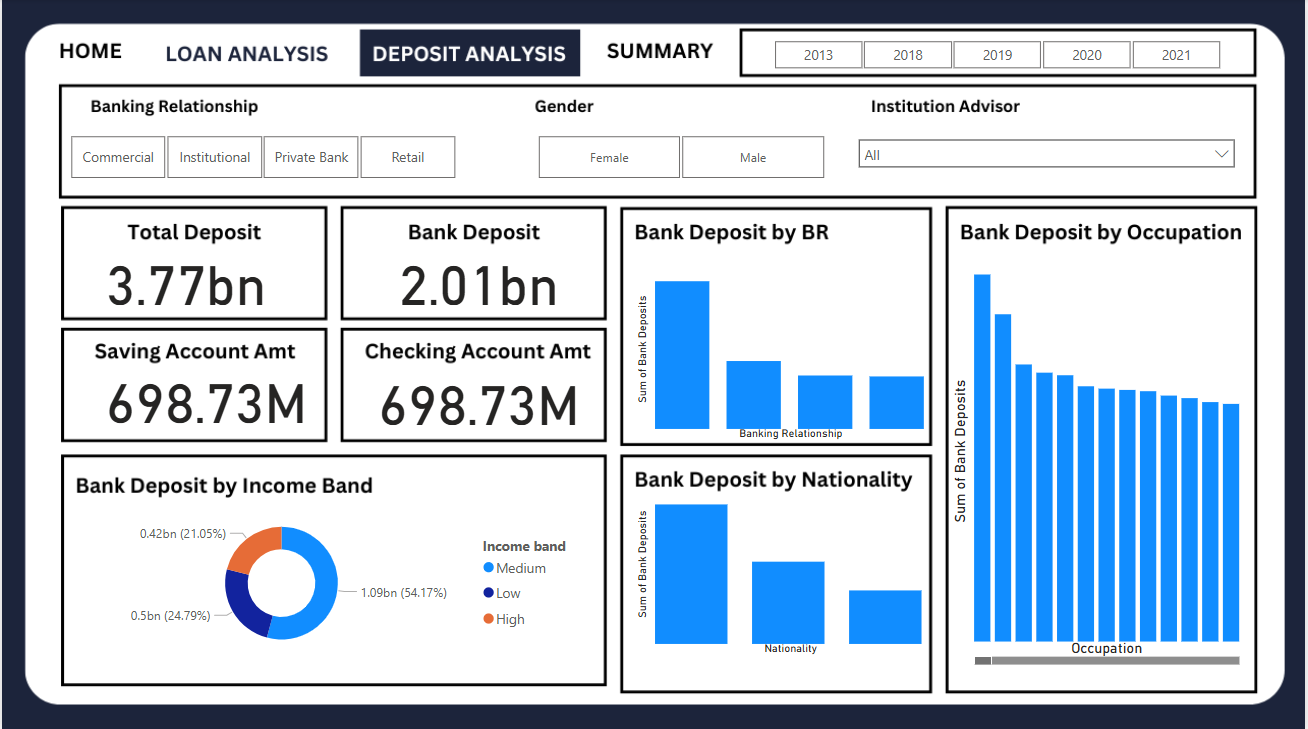

What the dashboard file says about the page in this screenshot:
{"tool":"powerbi","page":{"name":"Deposit Analysis","canvas":[1280,720],"ordinal":2},"visuals":[{"type":"actionButton","box":[41.7,33.1,99.4,40.5],"z":0},{"type":"actionButton","box":[150.9,33.1,177.9,40.5],"z":1000},{"type":"actionButton","box":[576.7,33.1,137.4,40.5],"z":2000},{"type":"slicer","fields":{"Values":["banking-realtionships.Banking Relationship"]},"box":[41.7,127.6,427,55.2],"z":3000},{"type":"slicer","fields":{"Values":["banking-clients.GenderId"]},"box":[500.6,127.6,330.1,55.2],"z":4000},{"type":"slicer","fields":{"Values":["banking-clients.IAId"]},"box":[830.7,127.6,389,55.2],"z":5000},{"type":"card","fields":{"Values":["banking-clients.Total Deposits"]},"box":[72.4,242.9,217.2,62.6],"z":6000},{"type":"card","fields":{"Values":["Sum(banking-clients.Bank Deposits)"]},"box":[359.5,242.9,217.2,62.6],"z":7000},{"type":"card","fields":{"Values":["Sum(banking-clients.Saving Accounts)"]},"box":[92,359.5,217.2,62.6],"z":8000},{"type":"card","fields":{"Values":["Sum(banking-clients.Saving Accounts)"]},"box":[359.5,360.7,217.2,62.6],"z":9000},{"type":"slicer","fields":{"Values":["banking-clients.Year Of Joining"]},"box":[732.5,34.4,487.1,38],"z":10000},{"type":"donutChart","fields":{"Category":["banking-clients.Income band"],"Y":["Sum(banking-clients.Bank Deposits)"]},"box":[72.4,498.2,504.3,150.9],"z":11000},{"type":"clusteredColumnChart","fields":{"Category":["banking-realtionships.Banking Relationship"],"Y":["Sum(banking-clients.Bank Deposits)"]},"box":[618.4,251.5,294.5,186.5],"z":12000},{"type":"clusteredColumnChart","fields":{"Category":["banking-clients.Nationality"],"Y":["Sum(banking-clients.Bank Deposits)"]},"box":[618.4,462.6,294.5,186.5],"z":13000},{"type":"clusteredColumnChart","fields":{"Y":["Sum(banking-clients.Bank Deposits)"],"Category":["banking-clients.Occupation"]},"box":[927.6,242.9,292.3,415.8],"z":14000}]}

Visuals, with their boxes in screenshot pixels (x1, y1, x2, y2), scaled from the page's 1280x720 canvas onto the 1308x729 screenshot:
actionButton: rect(43, 34, 144, 75)
actionButton: rect(154, 34, 336, 75)
actionButton: rect(589, 34, 730, 75)
slicer - banking-realtionships.Banking Relationship: rect(43, 129, 479, 185)
slicer - banking-clients.GenderId: rect(512, 129, 849, 185)
slicer - banking-clients.IAId: rect(849, 129, 1246, 185)
card - banking-clients.Total Deposits: rect(74, 246, 296, 309)
card - Sum(banking-clients.Bank Deposits): rect(367, 246, 589, 309)
card - Sum(banking-clients.Saving Accounts): rect(94, 364, 316, 427)
card - Sum(banking-clients.Saving Accounts): rect(367, 365, 589, 429)
slicer - banking-clients.Year Of Joining: rect(749, 35, 1246, 73)
donutChart - banking-clients.Income band x Sum(banking-clients.Bank Deposits): rect(74, 504, 589, 657)
clusteredColumnChart - banking-realtionships.Banking Relationship x Sum(banking-clients.Bank Deposits): rect(632, 255, 933, 443)
clusteredColumnChart - banking-clients.Nationality x Sum(banking-clients.Bank Deposits): rect(632, 468, 933, 657)
clusteredColumnChart - Sum(banking-clients.Bank Deposits) x banking-clients.Occupation: rect(948, 246, 1247, 667)
